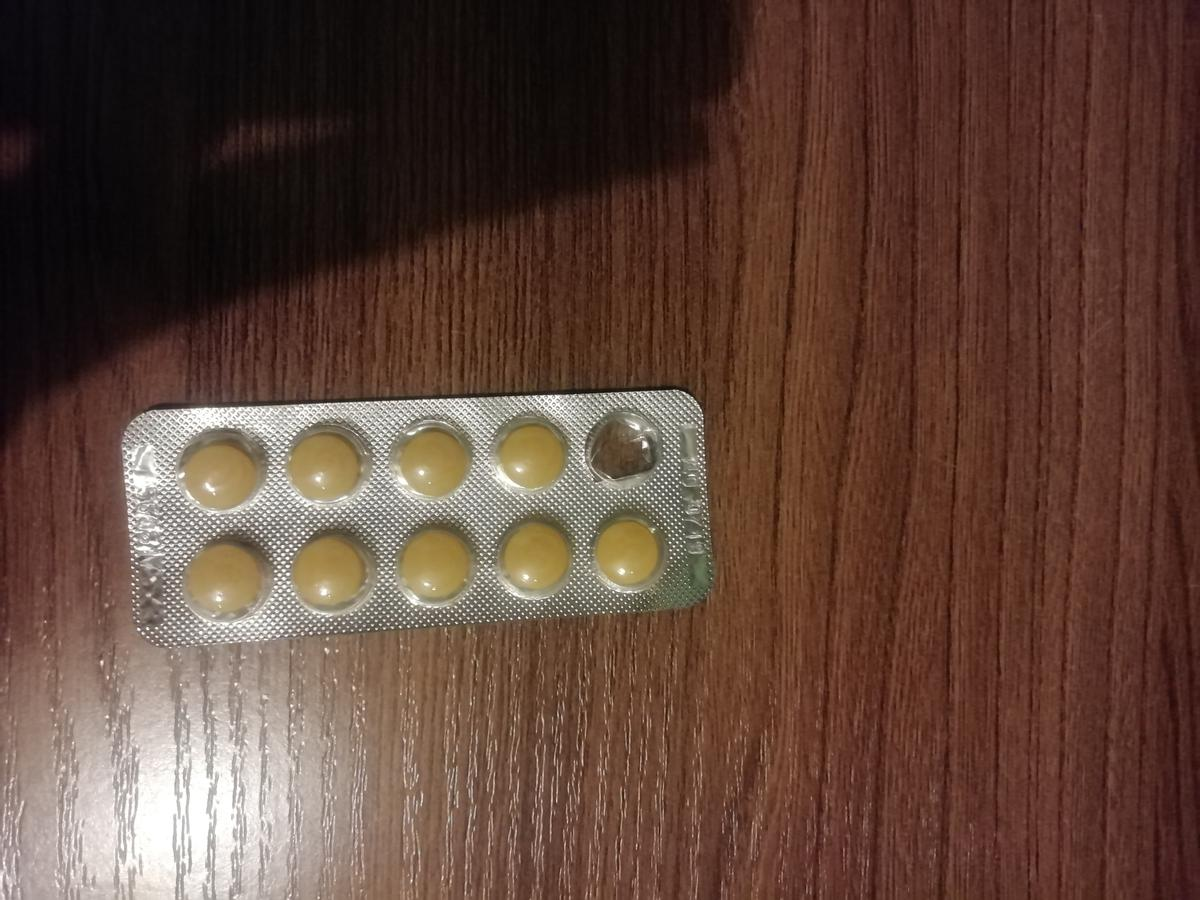tablet: (180, 430, 276, 517), (176, 538, 272, 625), (281, 424, 377, 511), (281, 525, 377, 612), (378, 421, 474, 508), (389, 524, 485, 611), (481, 407, 577, 494), (480, 517, 576, 604), (587, 509, 683, 596)
